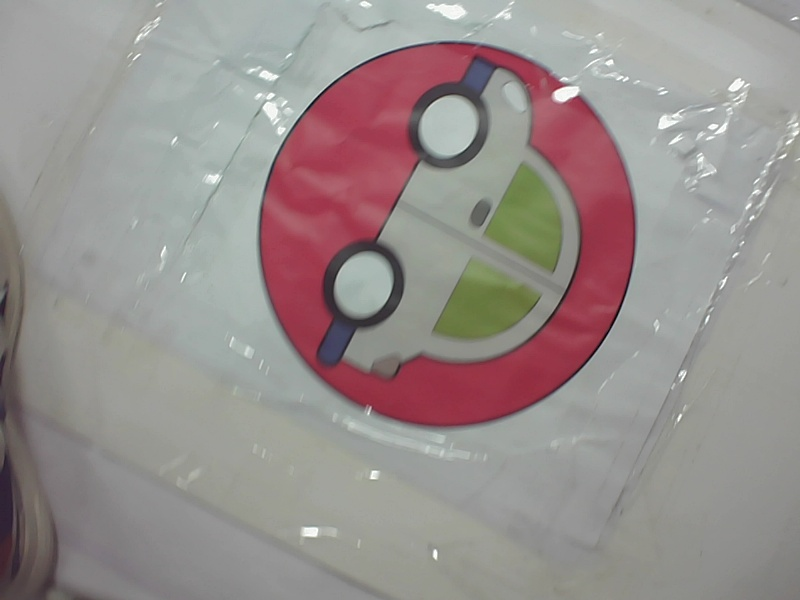areaC: (245, 39, 642, 434)
